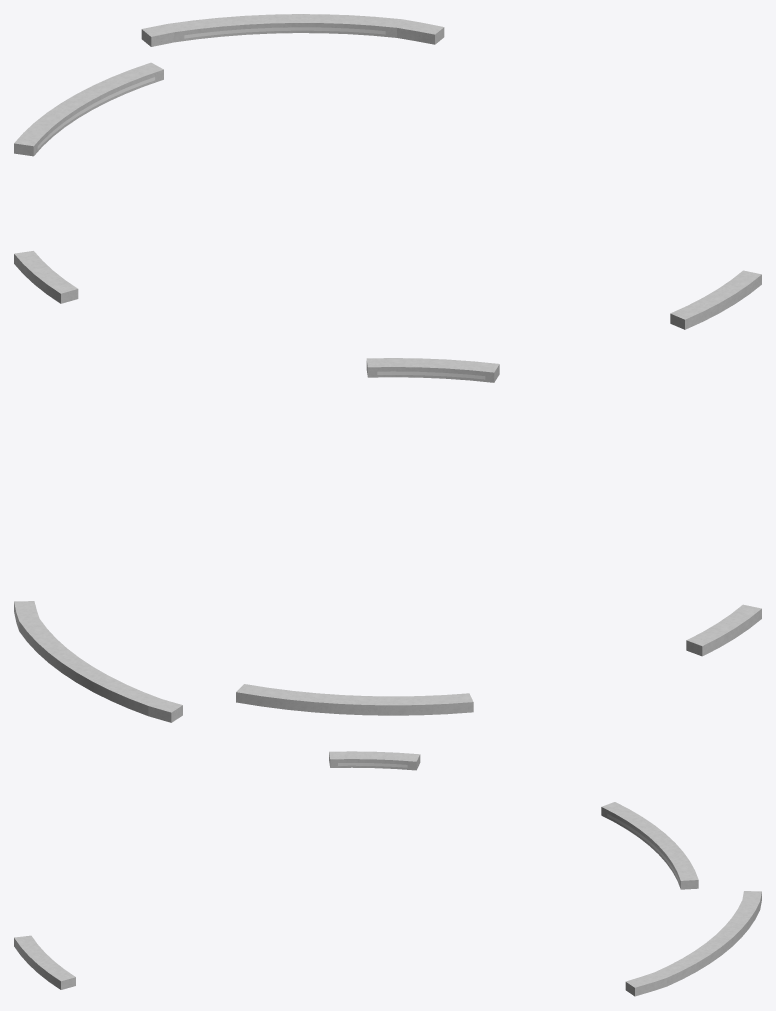
The model's file is Sides.fbx.
The picture shows the model from 3 angles, top to bottom: view 1: azimuth 30°, elevation 25°; view 2: azimuth 150°, elevation 25°; view 3: azimuth 270°, elevation 25°; orthographic projection. The views are drawn at different scales.
Visible parts, largest first — view 1: Banny; view 2: Banny; view 3: Banny.
Part boxes in pixels (x1,y1,x2,y2): Banny: [14, 14, 761, 329]; Banny: [14, 358, 761, 722]; Banny: [14, 751, 761, 996].
Size of the model in its own units: 23.14 by 0.4 by 30.95.
